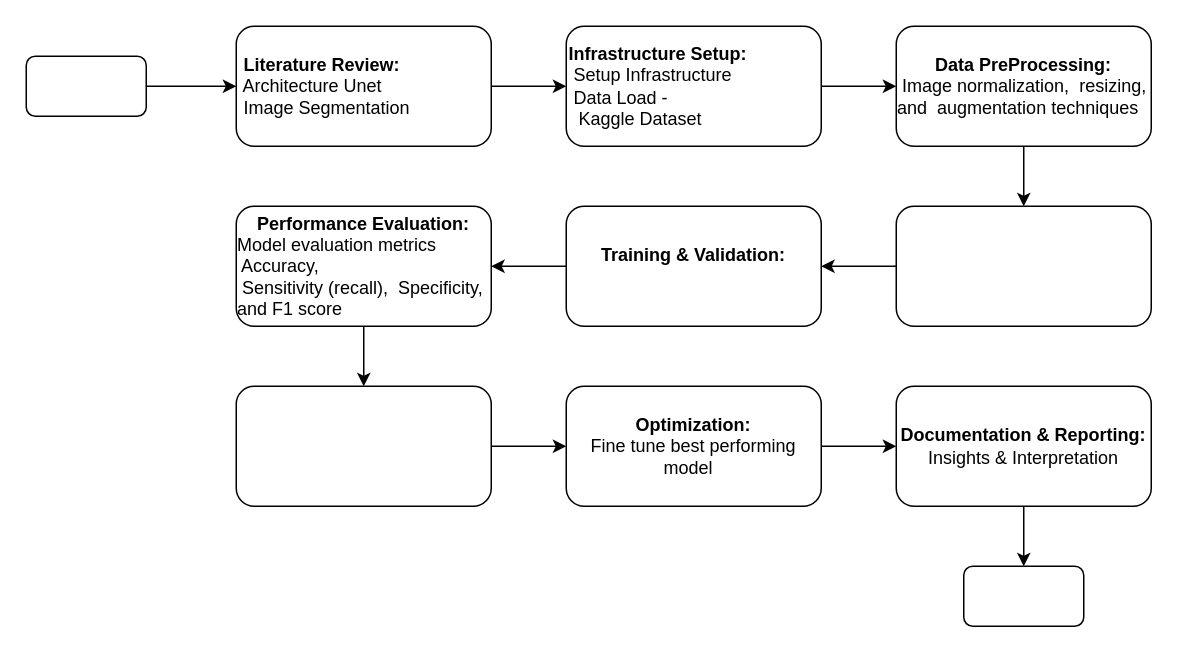
This 1178x653 diagram has some shape labels left out. Here are the shapes that lost their labels. From the top down, the box of each, then its label:
(25, 55, 146, 116): Start
(895, 205, 1151, 326): Model Implementation: DeepLabv3, U-Net EfficientNet models
(235, 385, 491, 506): Comparative Analysis Quantitative Qualitative
(962, 565, 1084, 626): End
